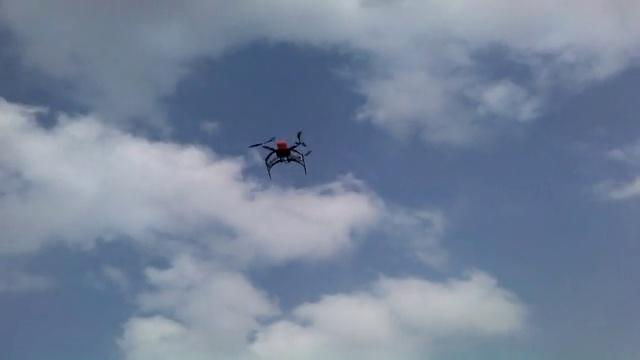drone: (245, 127, 312, 182)
